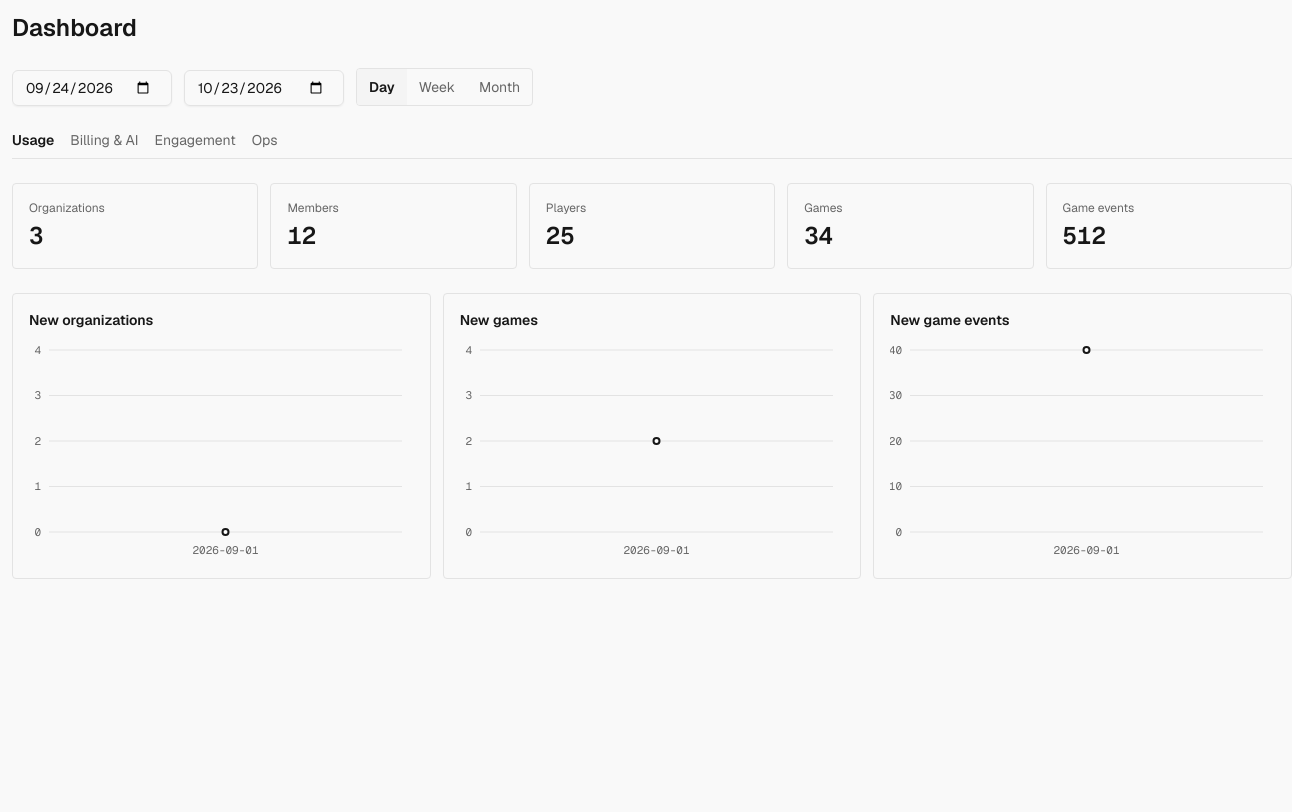
Test: Dashboard › keeps loaded data visible during a transient invalid range edit
This screenshot has width=1292, height=812.
Expected: the tab "Usage" is shown, x1=12 y1=130 x2=54 y2=150
Expected: the text "Game events" is shown, x1=1063 y1=200 x2=1134 y2=216
Type "2027-01-01" into the 1st date field named "From" at [92, 88], box x1=12 y1=70 x2=172 y2=106
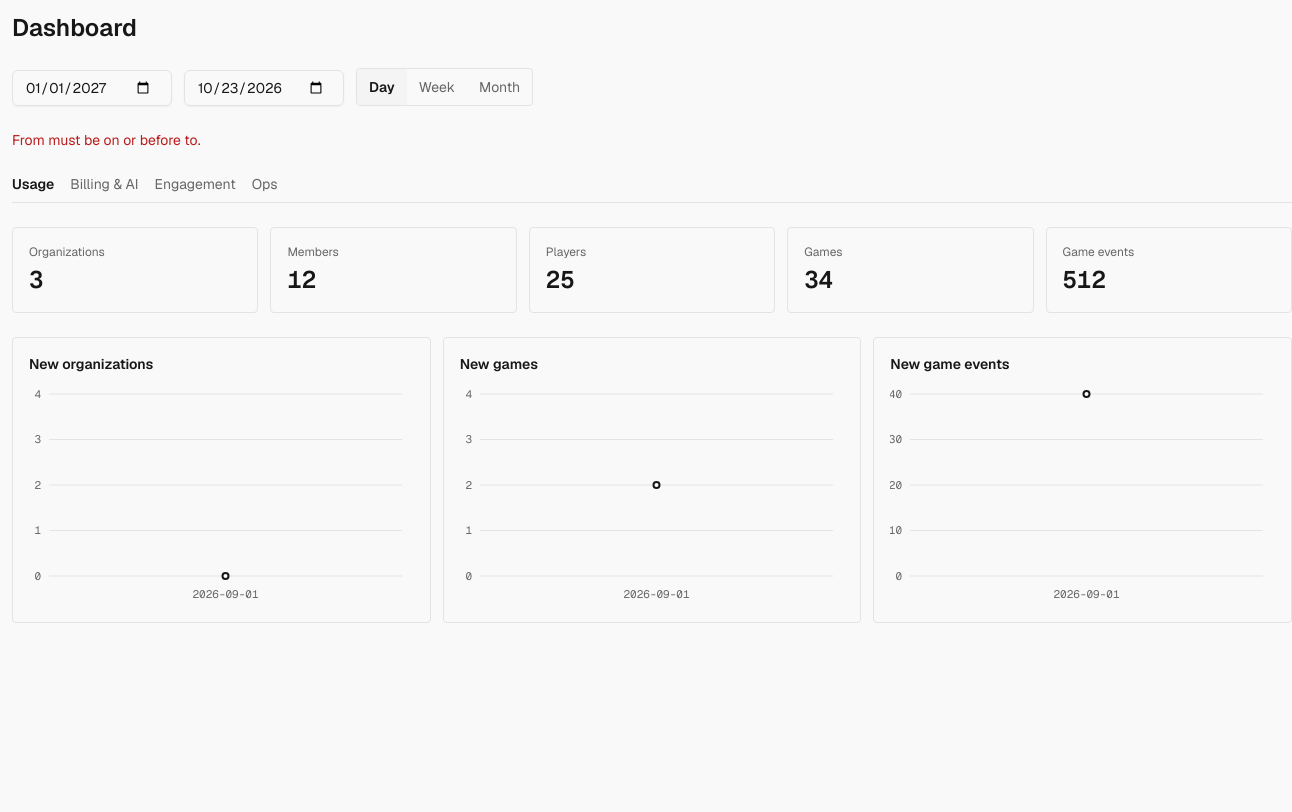
Expected: the tab "Usage" is shown, x1=12 y1=174 x2=54 y2=194
Now the message "From must be on or before to." is shown, box x1=12 y1=131 x2=200 y2=149
